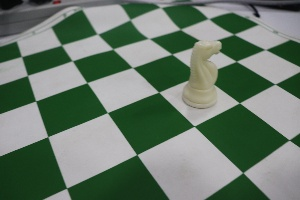white_horse: (178, 25, 232, 119)
